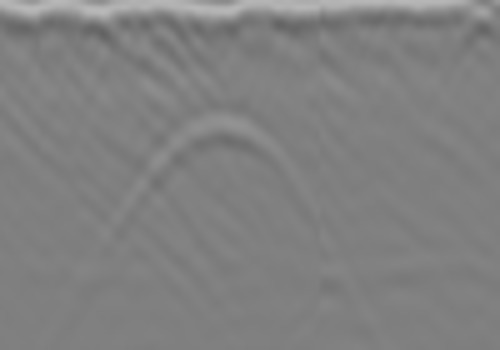hyperbola: (85, 103, 358, 285)
